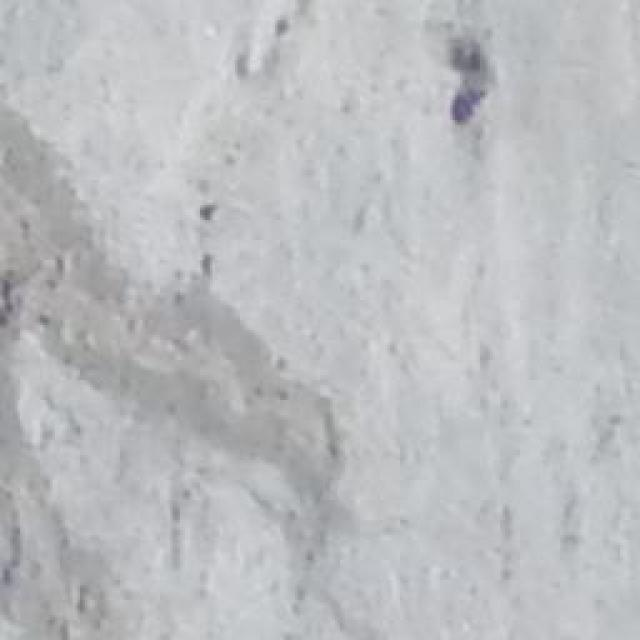concrete-crack: (448, 0, 495, 130)
